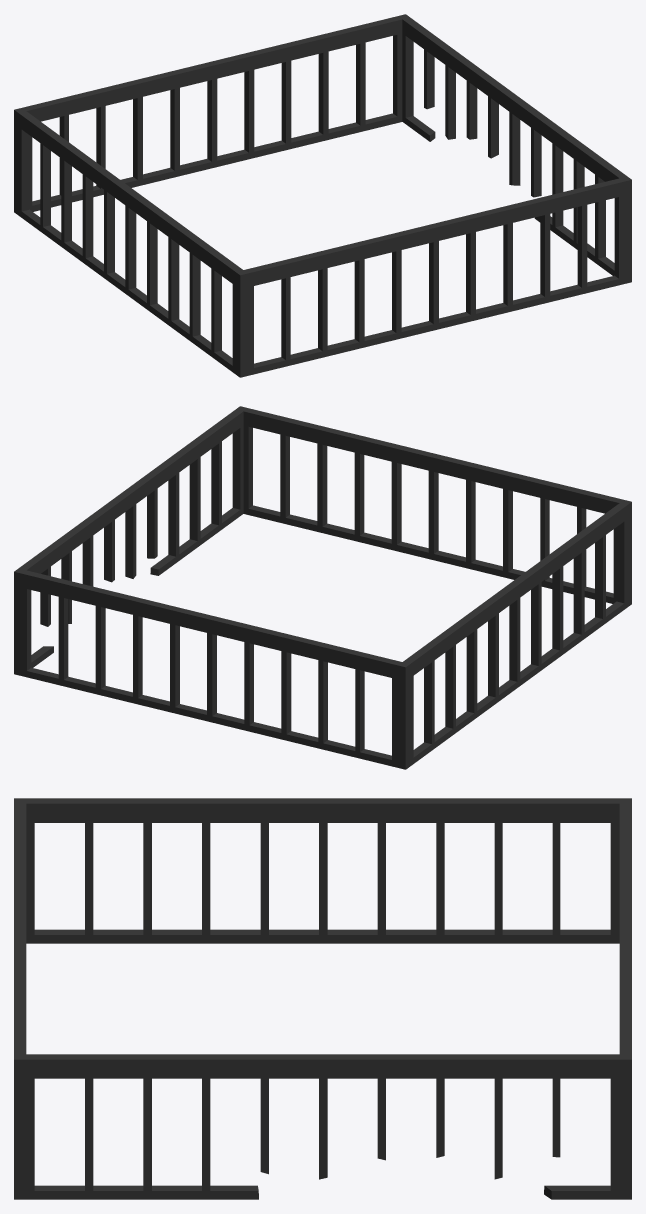
Rendered from OfficeBottomDamaged.glb.
3 renders of one model, top to bottom at view 1: azimuth 30°, elevation 25°; view 2: azimuth 150°, elevation 25°; view 3: azimuth 270°, elevation 25°, orthographic. The views are drawn at different scales.
Visible parts, largest first — view 1: LargeDamageOfficeP2-col; view 2: LargeDamageOfficeP2-col; view 3: LargeDamageOfficeP2-col.
Boxes of the visible parts, box(x1,y1,x2,y2) form: LargeDamageOfficeP2-col: box(14, 14, 631, 377); LargeDamageOfficeP2-col: box(14, 406, 631, 769); LargeDamageOfficeP2-col: box(14, 798, 631, 1199).
Bounding box in the file's own units: 64 × 16 × 64.
1 material, 1 textured.
